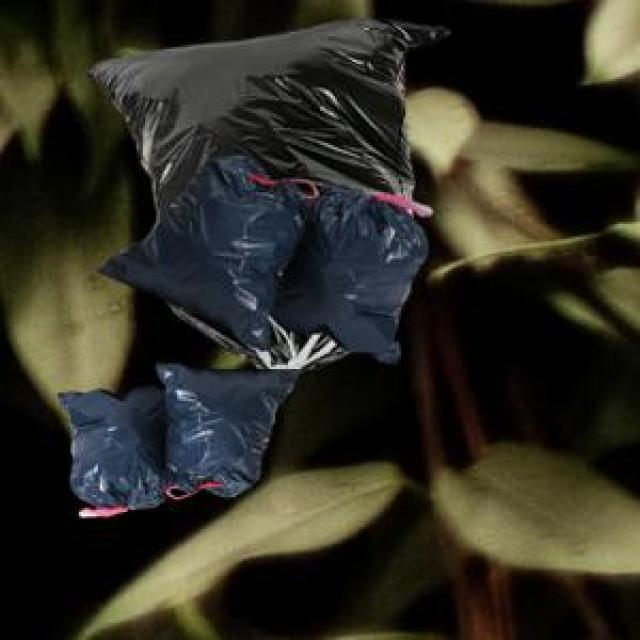waste: (88, 20, 439, 361), (108, 157, 296, 342), (282, 190, 426, 358), (161, 358, 298, 496), (62, 386, 173, 513)
